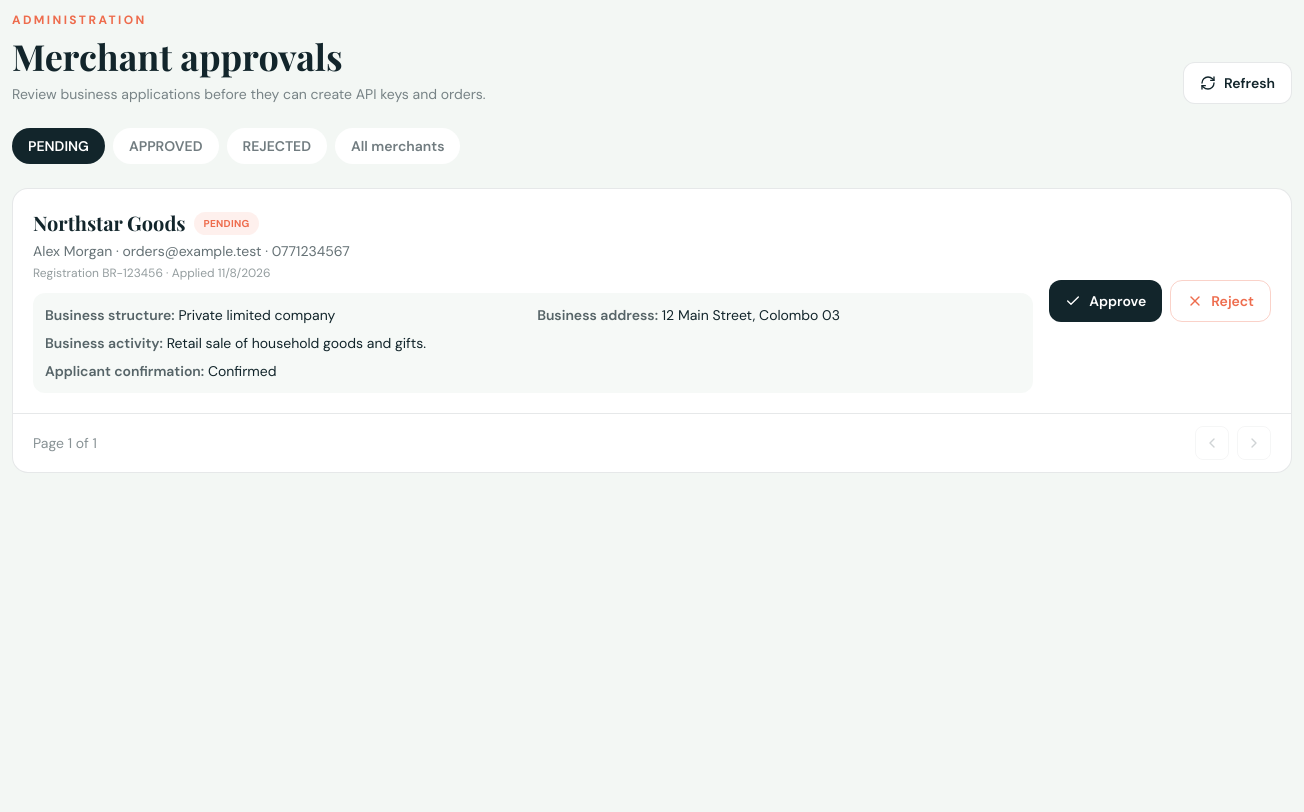
Test: MerchantApprovalsPage › requests a rejection reason and sends it to the API
Expected: the heading "Northstar Goods" is shown, [33,209,186,237]
Click the button "All merchants" at (398, 146), box [335,128,460,164]
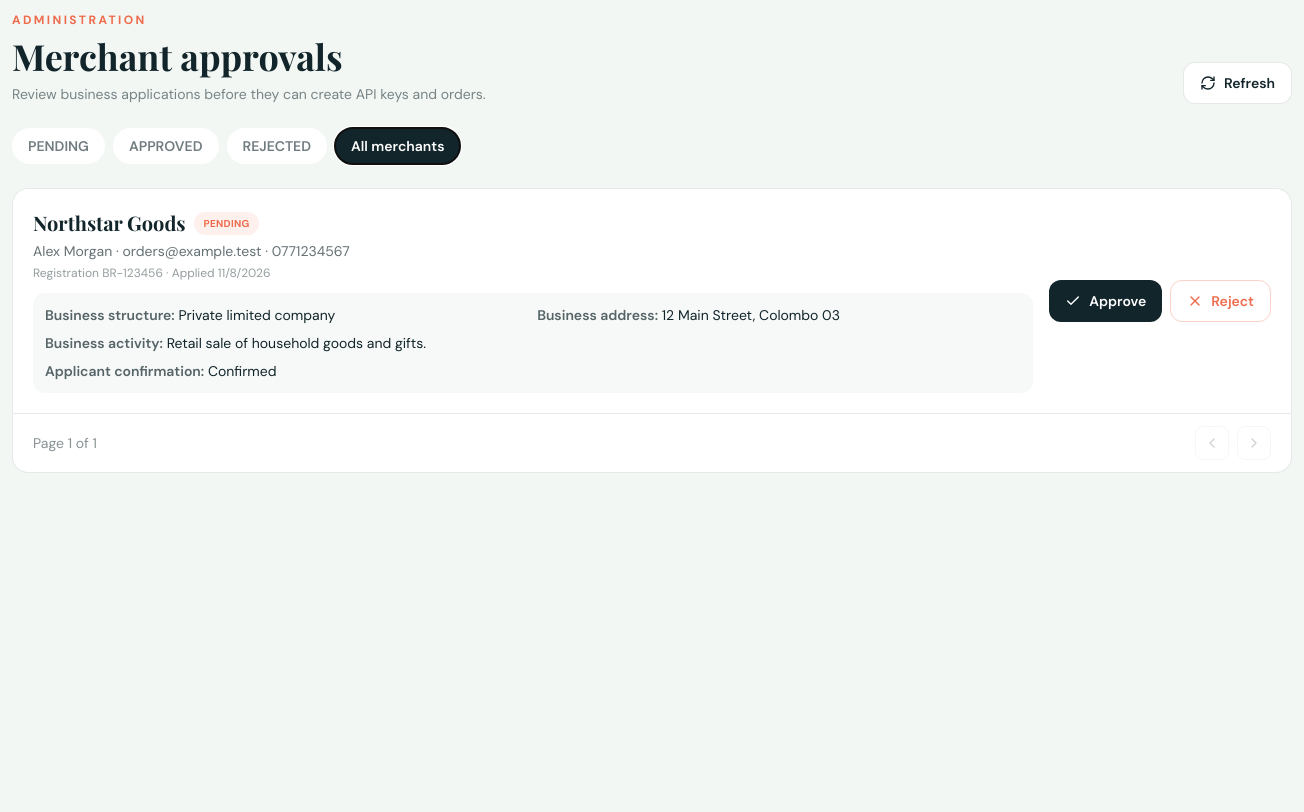
Click the button "Reject" at (1221, 301), box [1170,280,1271,322]
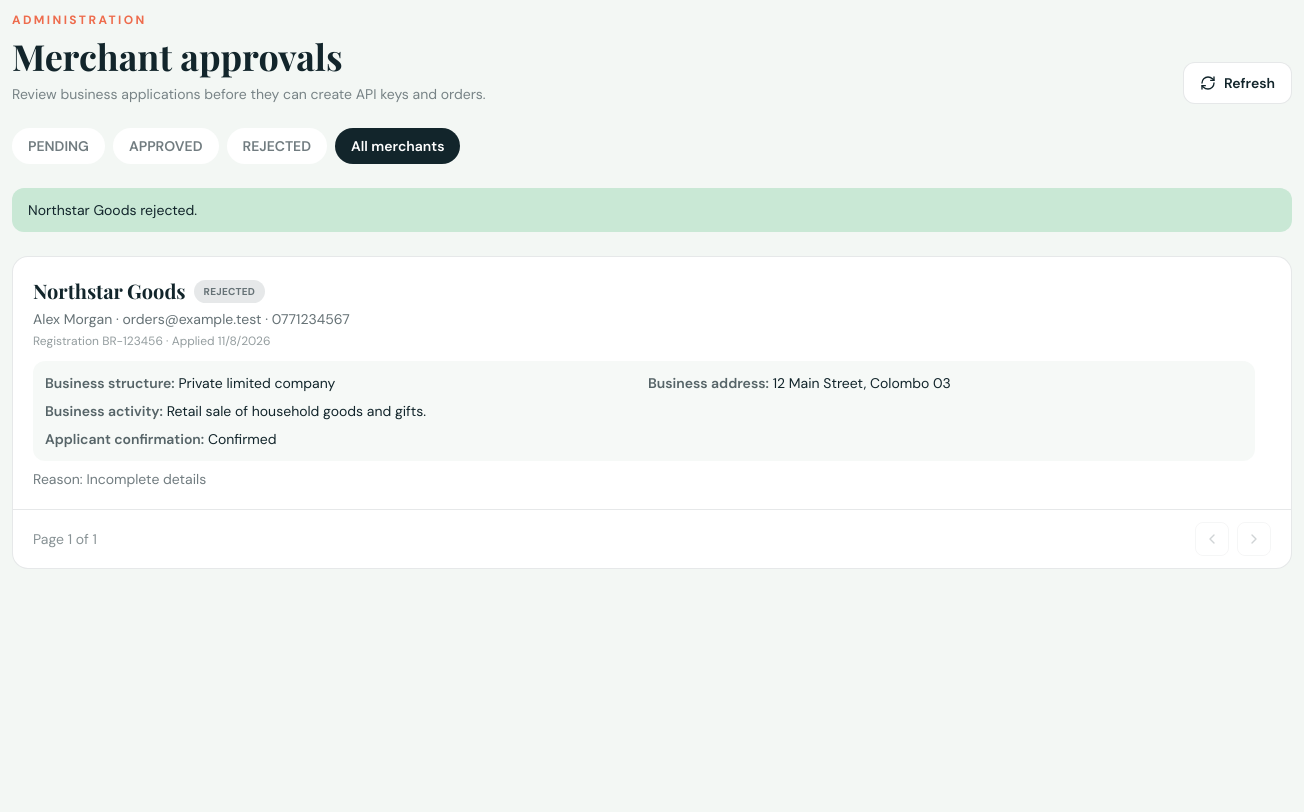
Now the message reads "Northstar Goods rejected.", box [28,201,197,219]
Now the text "REJECTED" is shown, box [194,280,265,302]
